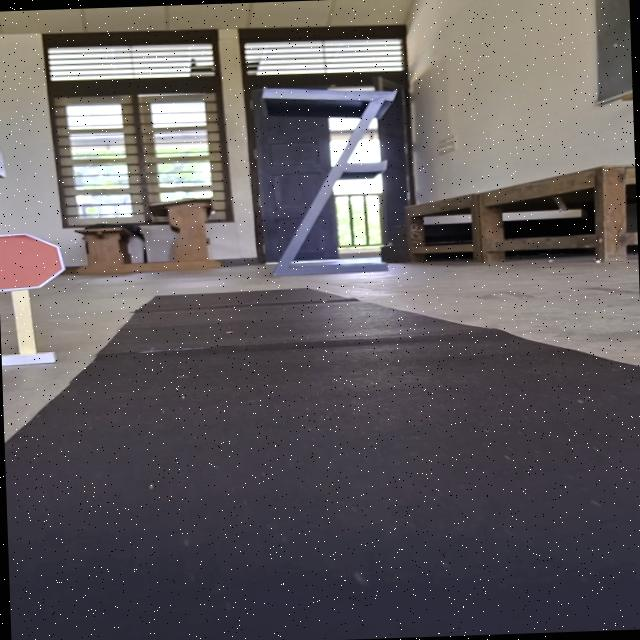Stop: (0, 230, 71, 294)
